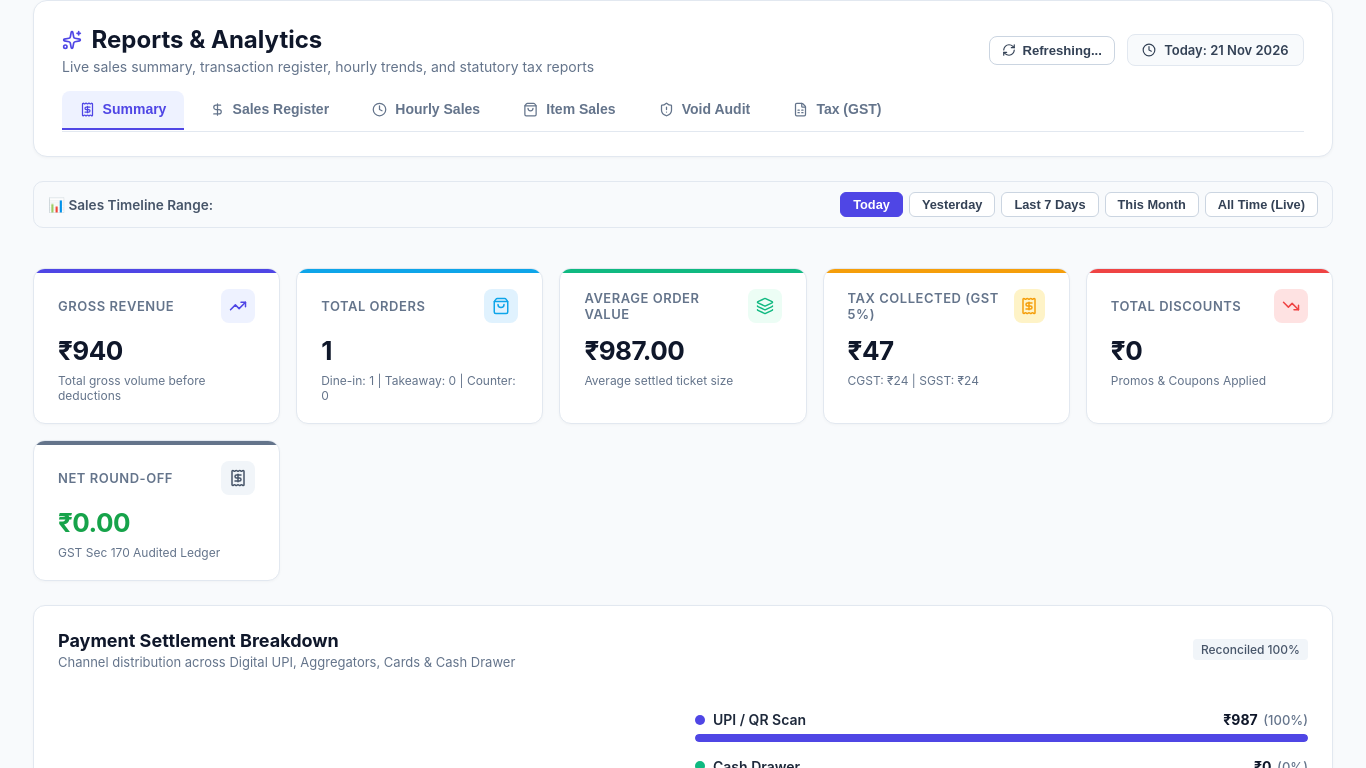
Scenario: ReportsDashboard Component › navigates to View E: GST & CA Export Module and triggers CSV export with Toast
This screenshot has width=1366, height=768.
// Click GST tab
Step 1. Click the button "Tax (GST)" → (837, 110), box [776, 91, 899, 130]
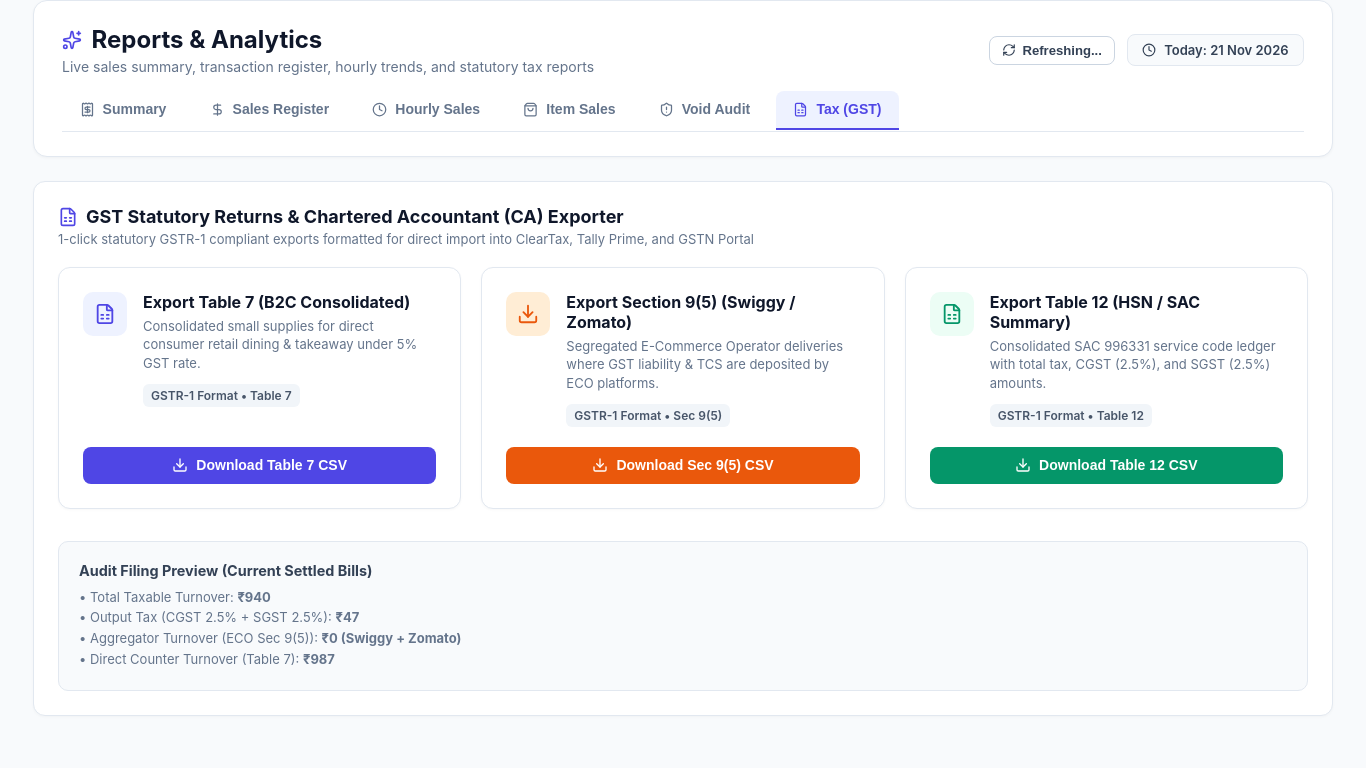
Expected: the heading "GST Statutory Returns & Chartered Accountant (CA) Exporter" is shown, [58, 206, 624, 227]
Expected: the heading "Export Table 7 (B2C Consolidated)" is shown, [143, 292, 436, 312]
Expected: the heading "Export Section 9(5) (Swiggy / Zomato)" is shown, [566, 292, 795, 332]
// Click Export Table 7 button
Step 2. Click the button "Download Table 7 CSV" → (260, 465), box [83, 447, 436, 484]
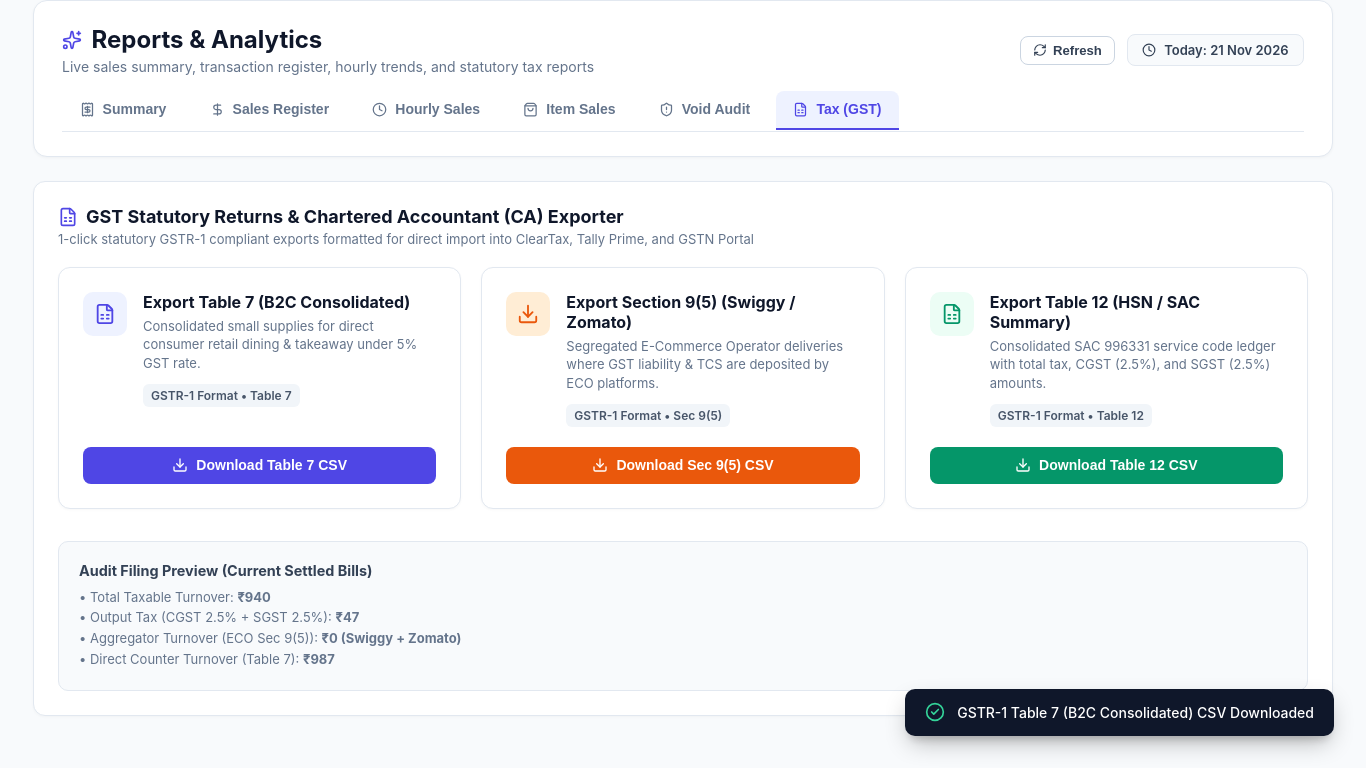
Expected: the text "GSTR-1 Table 7 (B2C Consolidated) CSV Downloaded" is shown, [957, 704, 1314, 721]
